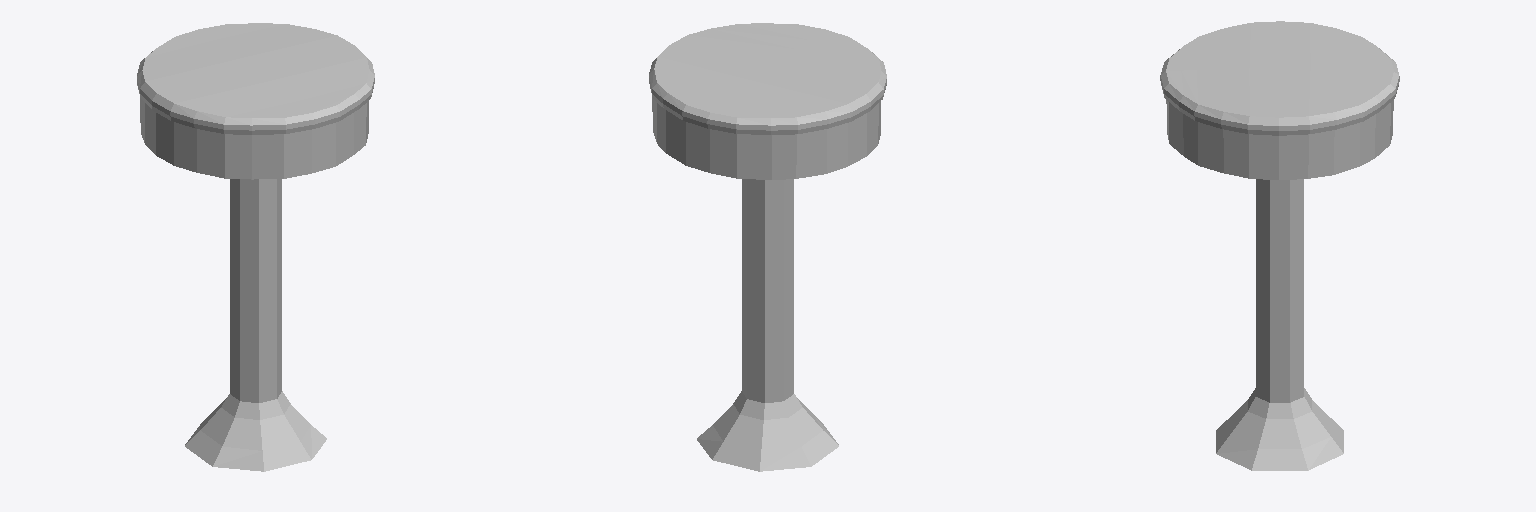
Rendered from Chair.obj.
The picture shows the model from 3 angles: view 1: azimuth 30°, elevation 25°; view 2: azimuth 150°, elevation 25°; view 3: azimuth 270°, elevation 25°; orthographic projection.
Visible parts, largest first — view 1: Chair_LP_Chair_LP; view 2: Chair_LP_Chair_LP; view 3: Chair_LP_Chair_LP.
Boxes of the visible parts, <box> form: Chair_LP_Chair_LP: <box>137,23,374,471</box>; Chair_LP_Chair_LP: <box>649,23,886,471</box>; Chair_LP_Chair_LP: <box>1160,21,1399,470</box>.
Size of the model in its own units: 174 by 298 by 174.